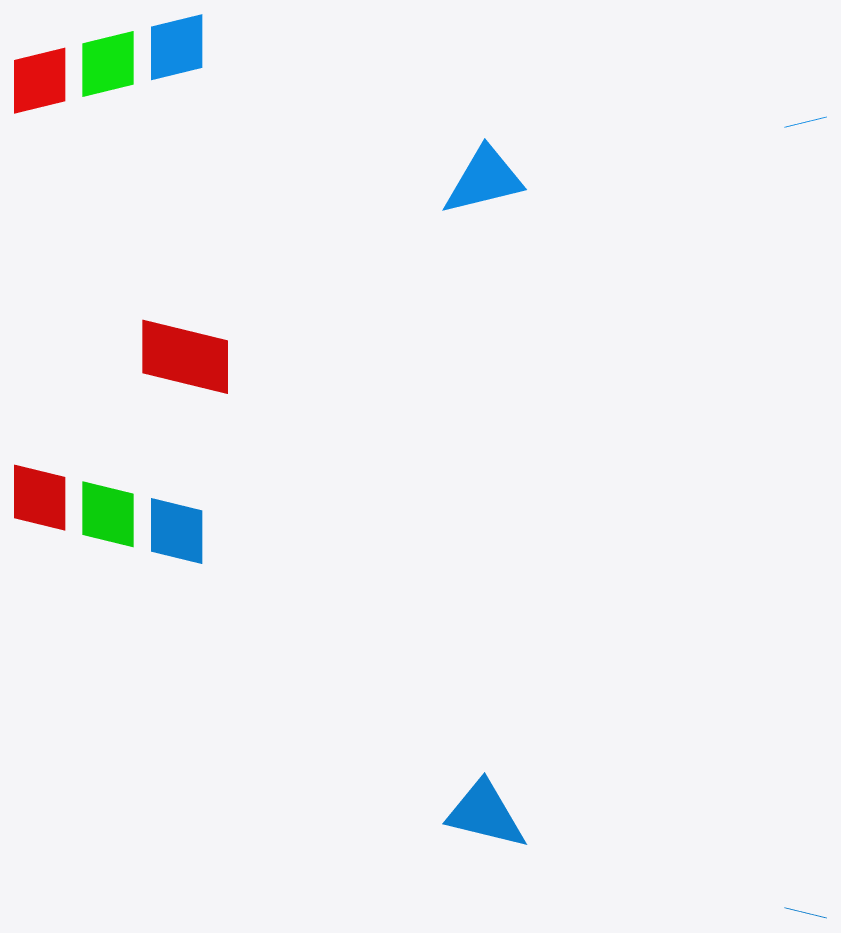
Rendered from probe-output.glb.
3 renders of one model, top to bottom at view 1: azimuth 30°, elevation 25°; view 2: azimuth 150°, elevation 25°; view 3: azimuth 330°, elevation 25°, orthographic.
Visible parts, largest first — view 1: probe_10_MULTI_MATERIAL_PRIMITIVES, probe_03_TRIANGLES_blue_layer_c; view 2: probe_04_TRIANGLE_STRIP_red_layer_a; view 3: probe_10_MULTI_MATERIAL_PRIMITIVES, probe_03_TRIANGLES_blue_layer_c.
Part boxes in pixels (box(x1,y1,x2,y2)): probe_10_MULTI_MATERIAL_PRIMITIVES: box(14, 14, 202, 113); probe_03_TRIANGLES_blue_layer_c: box(442, 138, 526, 210); probe_04_TRIANGLE_STRIP_red_layer_a: box(142, 319, 227, 393); probe_10_MULTI_MATERIAL_PRIMITIVES: box(14, 464, 202, 563); probe_03_TRIANGLES_blue_layer_c: box(442, 772, 527, 844).
Bounding box in the file's own units: 190 × 57.1 × 0.
